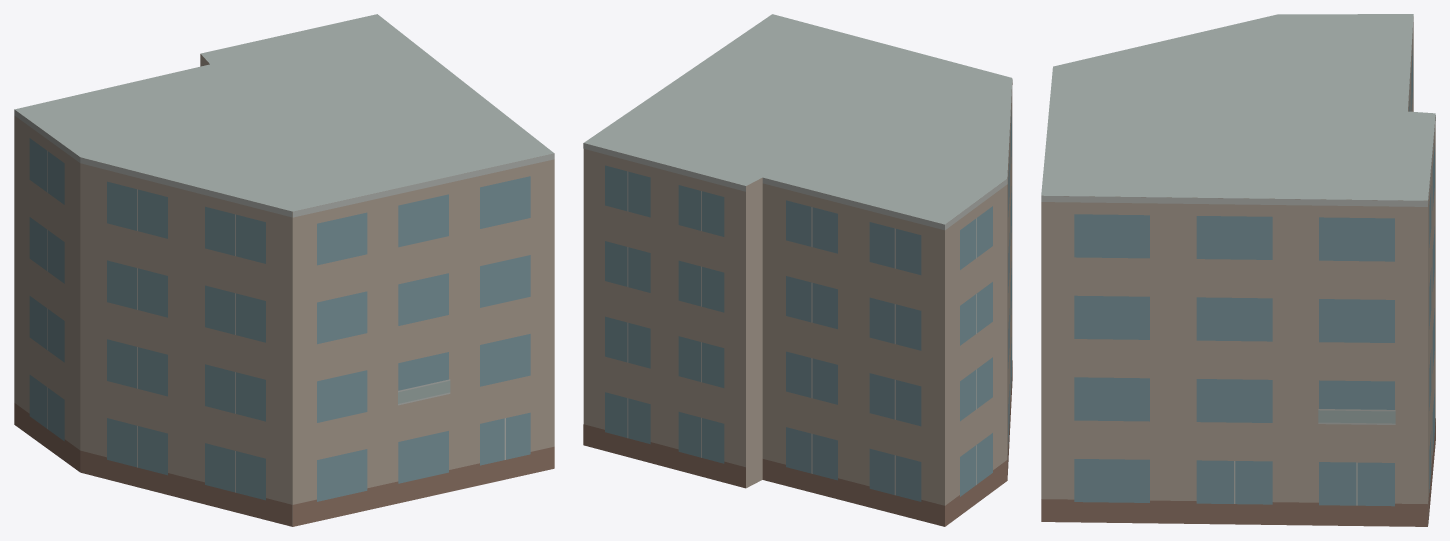
File: survey-upis-32731908.glb
3 renders of one model, left to right at view 1: azimuth 30°, elevation 25°; view 2: azimuth 150°, elevation 25°; view 3: azimuth 270°, elevation 25°, orthographic. The views are drawn at different scales.
Parts seen in each view (by area): view 1: survey-upis-32731908.tmp; view 2: survey-upis-32731908.tmp; view 3: survey-upis-32731908.tmp.
Part boxes in pixels (<box>): survey-upis-32731908.tmp: <box>14,14,554,526</box>; survey-upis-32731908.tmp: <box>583,14,1012,526</box>; survey-upis-32731908.tmp: <box>1041,14,1435,526</box>.
Size of the model in its own units: 15.73 by 12.8 by 14.05.
